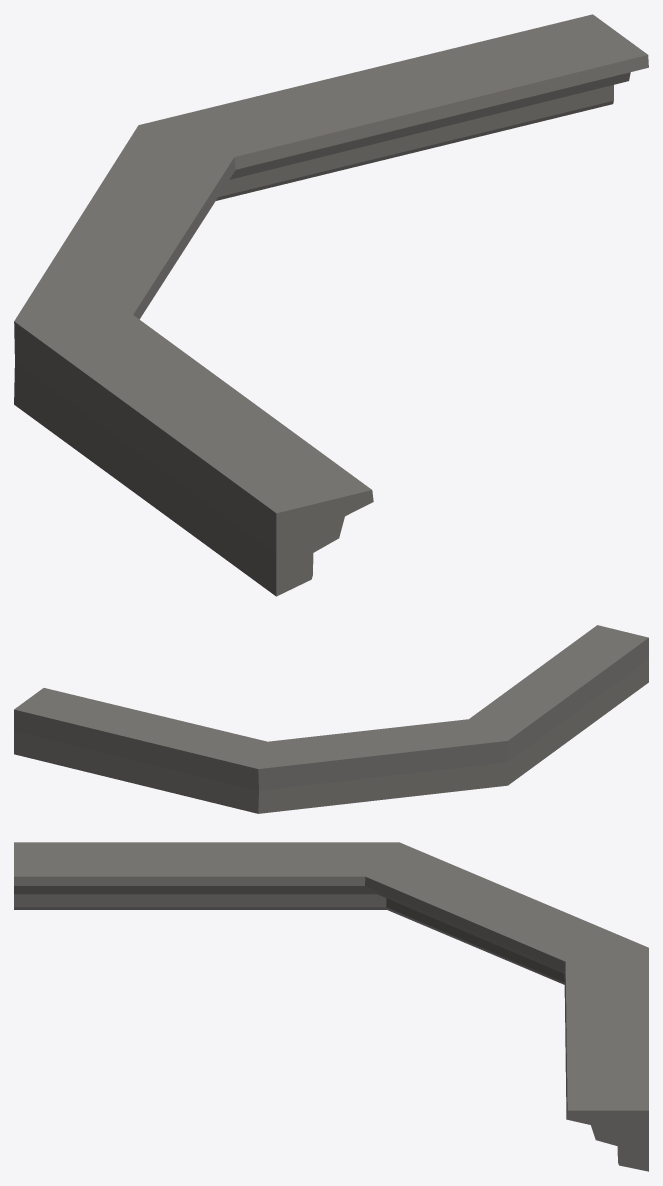
File: MCastle_Coving_Corner_01.FBX
The picture shows the model from 3 angles, top to bottom: view 1: azimuth 30°, elevation 25°; view 2: azimuth 150°, elevation 25°; view 3: azimuth 270°, elevation 25°; orthographic projection. The views are drawn at different scales.
Visible parts, largest first — view 1: MCastle_Coving_Corner_01_LOD0; view 2: MCastle_Coving_Corner_01_LOD0; view 3: MCastle_Coving_Corner_01_LOD0.
Boxes of the visible parts, x1,y1,x2,y2 form: MCastle_Coving_Corner_01_LOD0: (14, 14, 648, 596); MCastle_Coving_Corner_01_LOD0: (14, 625, 648, 813); MCastle_Coving_Corner_01_LOD0: (14, 842, 648, 1171).
Size of the model in its own units: 3.7 by 0.3931 by 3.7.
